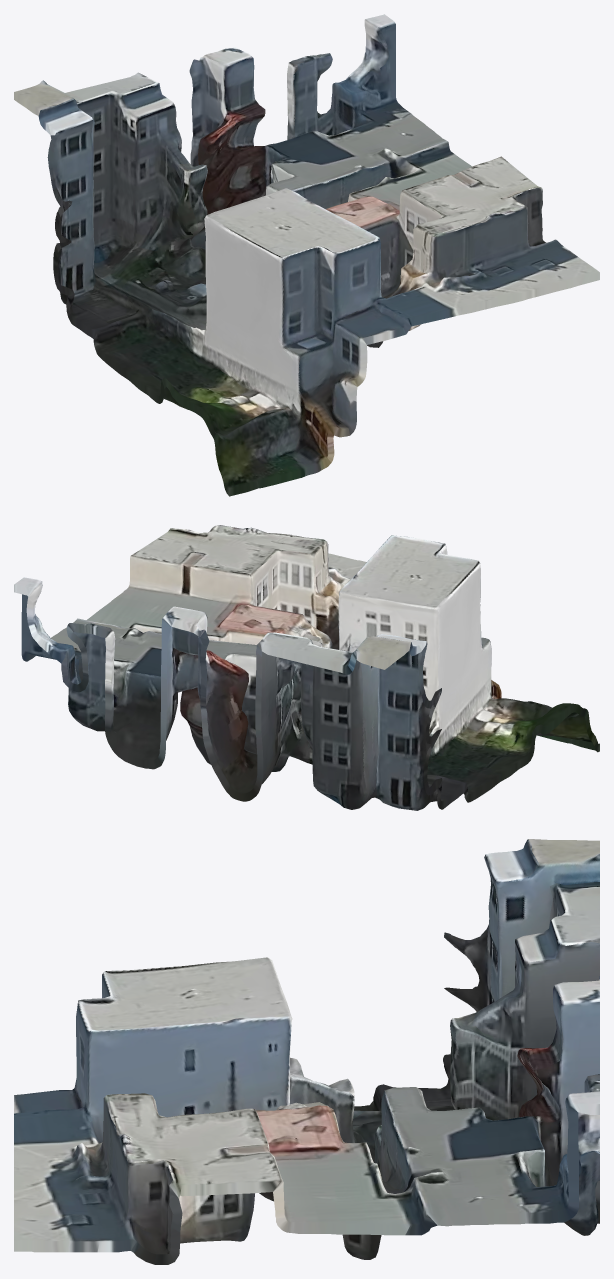
The model's file is z20-167725-405192-h0-yup-uvflip-v3-world.glb.
3 renders of one model, top to bottom at view 1: azimuth 30°, elevation 25°; view 2: azimuth 150°, elevation 25°; view 3: azimuth 270°, elevation 25°, orthographic. The views are drawn at different scales.
Size of the model in its own units: 30.16 by 19.56 by 30.32.
Materials: 1 (1 with a texture image).
